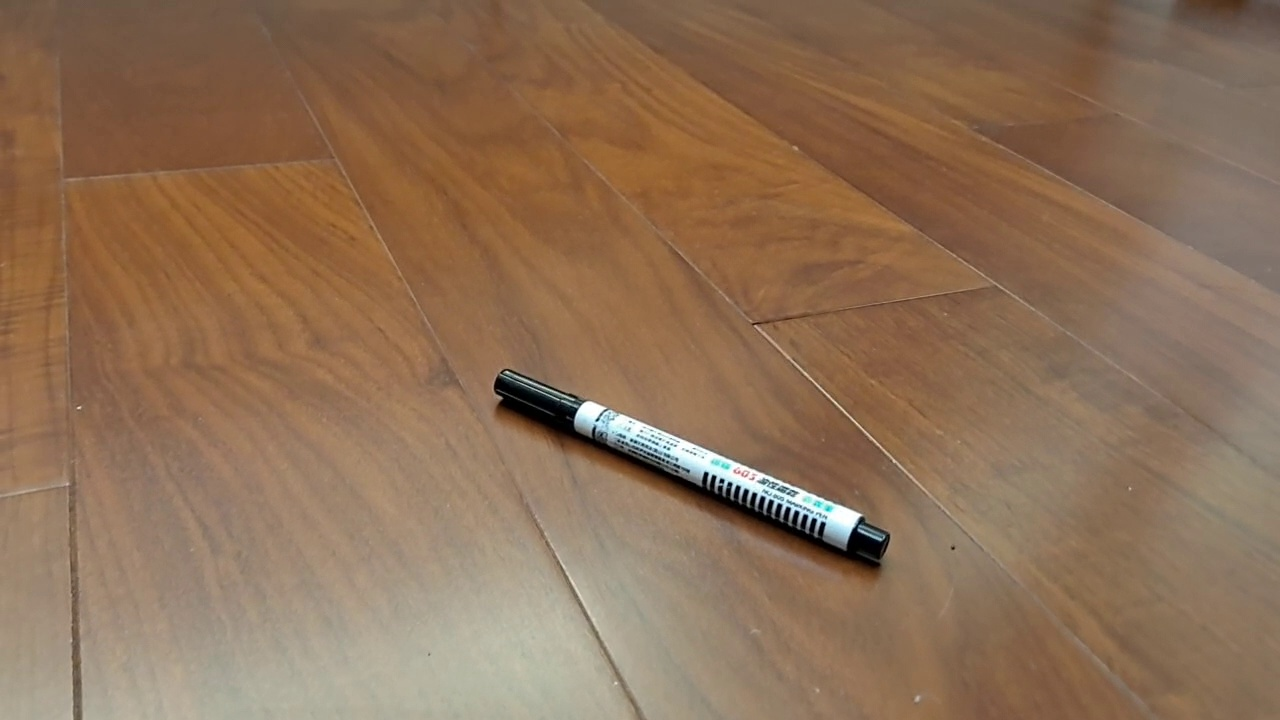pen: (493, 368, 891, 561)
